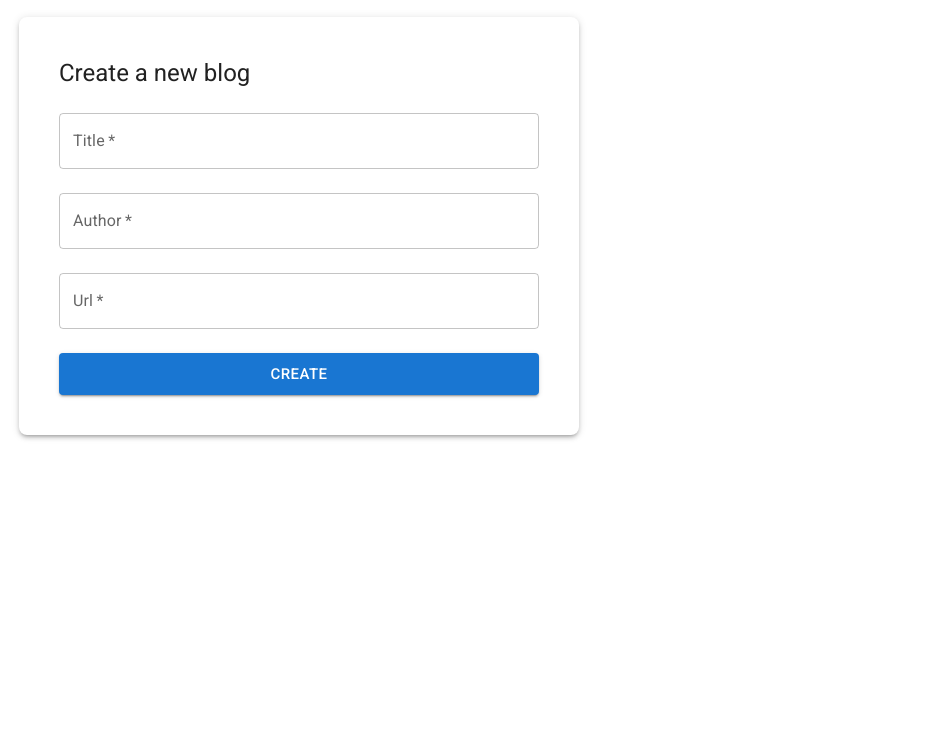
Test: BlogForm integration › shows error notification on failure
This screenshot has width=935, height=735.
In the field with test id "blogTitle": (299,141) [59,113,539,169], type "Bad"
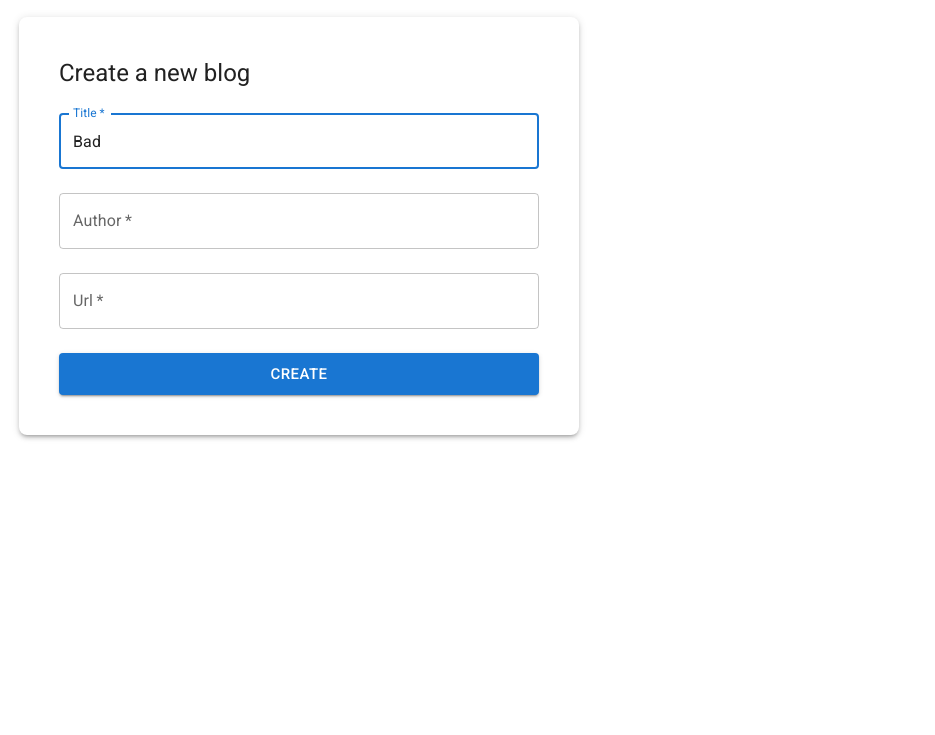
In the field with test id "blogAuthor": (299,221) [59,193,539,249], type "Tester"
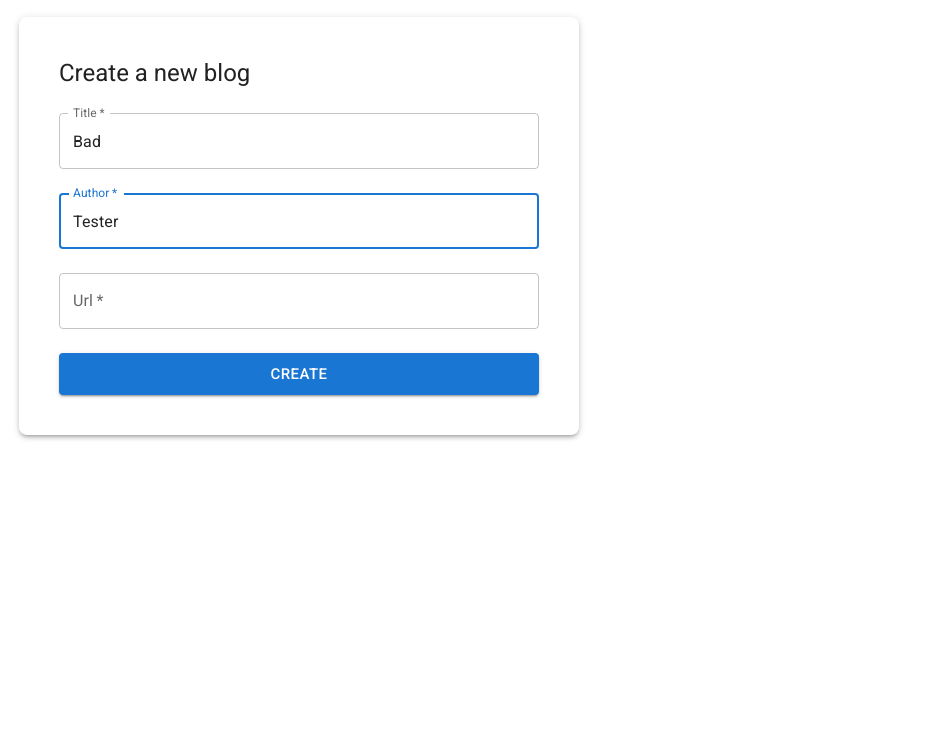
In the field with test id "blogUrl": (299,301) [59,273,539,329], type "http://example.com/blog"
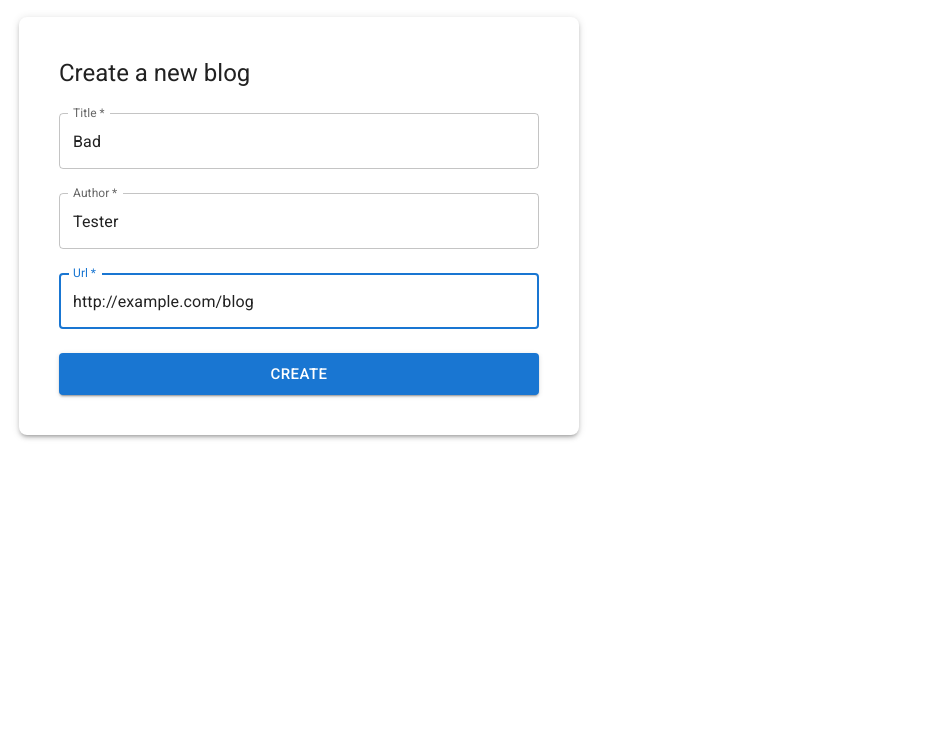
Click the button "Create": (299,374) [59,353,539,395]
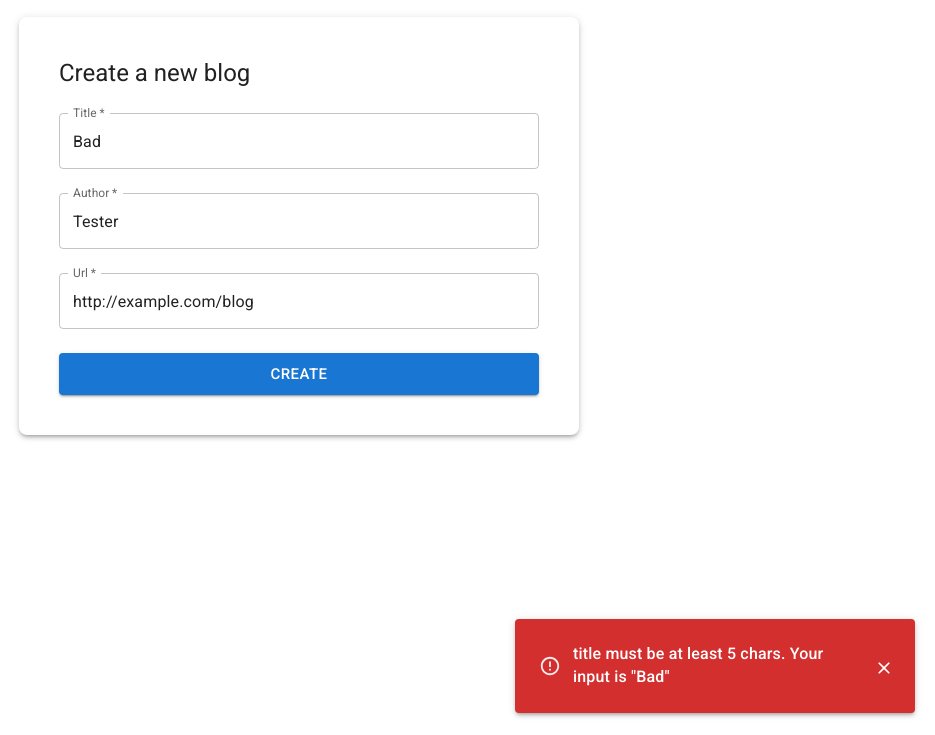
Check: the text "title must be at least 5 chars. Your input is \"Bad\"" is shown, box [573,643,853,689]
